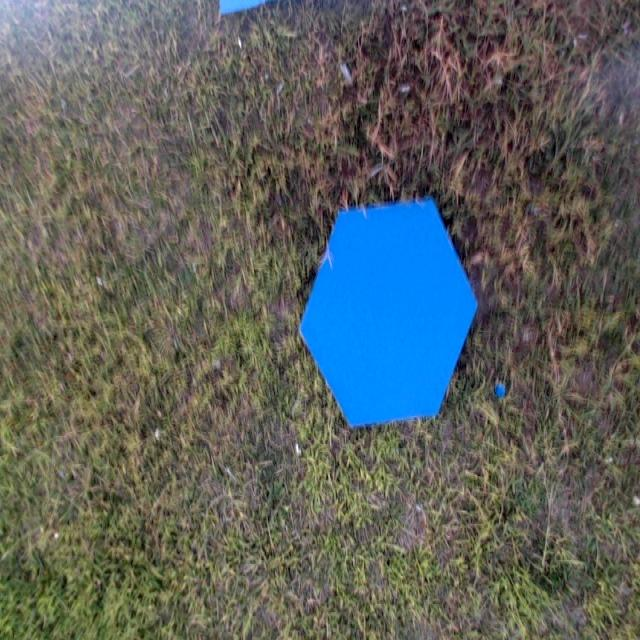blue_hexagon: (299, 199, 480, 427)
